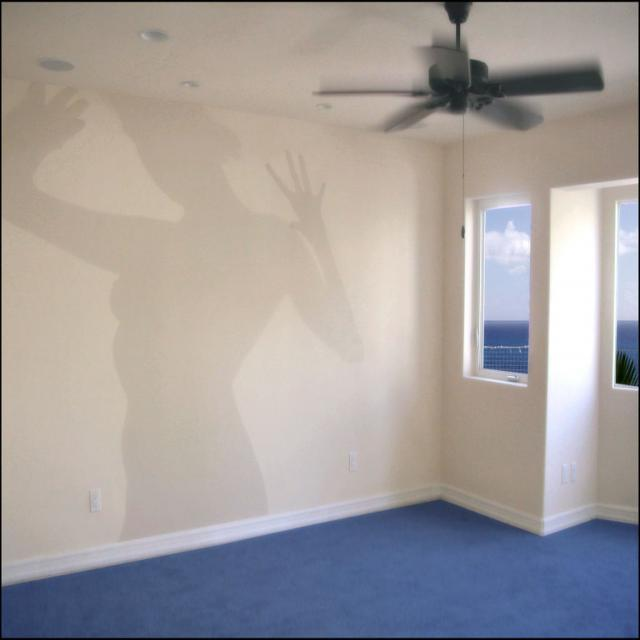fan_off: (308, 0, 606, 134)
